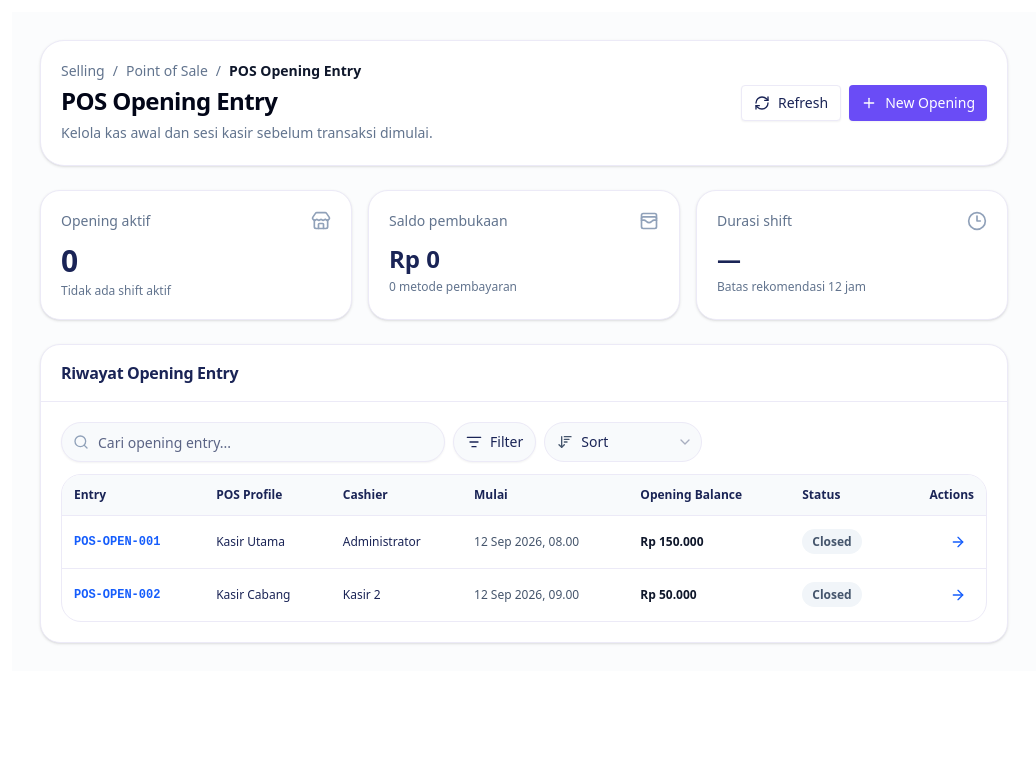
Test case: POSOpeningEntryPage › uses the reusable searchable table and opens a selected entry
The image size is (1036, 780).
Expected: the text "POS-OPEN-001" is shown, [62,515,204,568]
Expected: the button "Filter" is shown, [453,422,536,462]
In the field named "Search table": x=253, y=442 [61,422,445,462], type "Kasir Cabang"
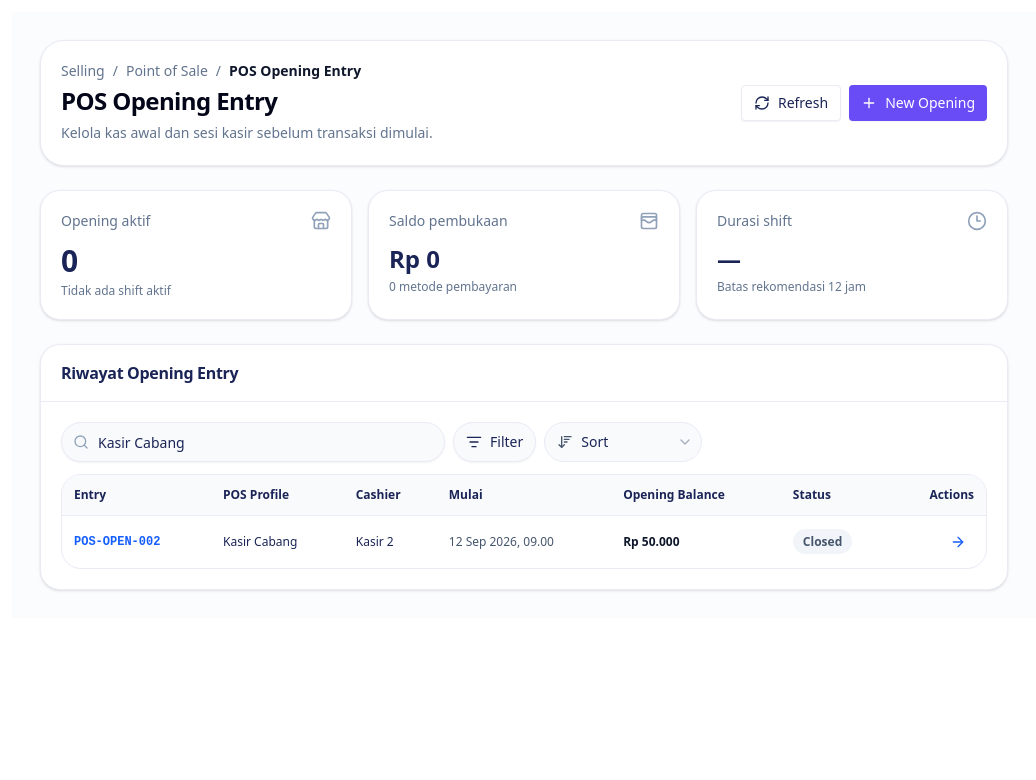
Now the text "POS-OPEN-001" is gone
Click the text "POS-OPEN-002": x=136, y=541 [62,515,211,568]
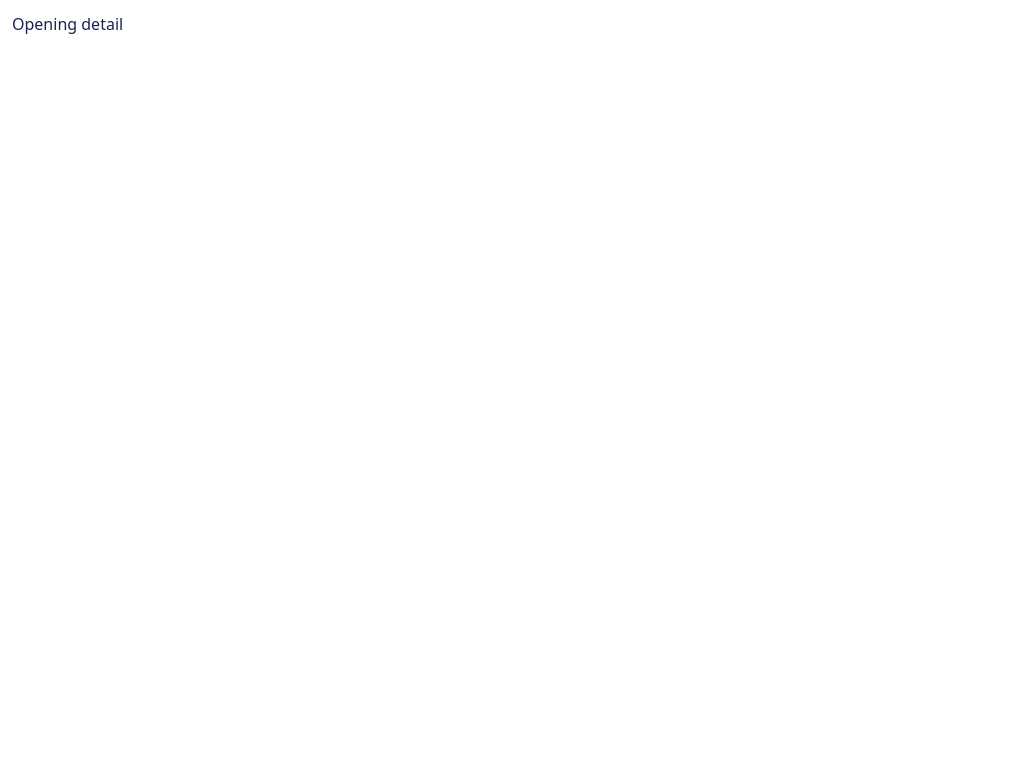
Now the text "Opening detail" is shown, box [12,13,123,35]
